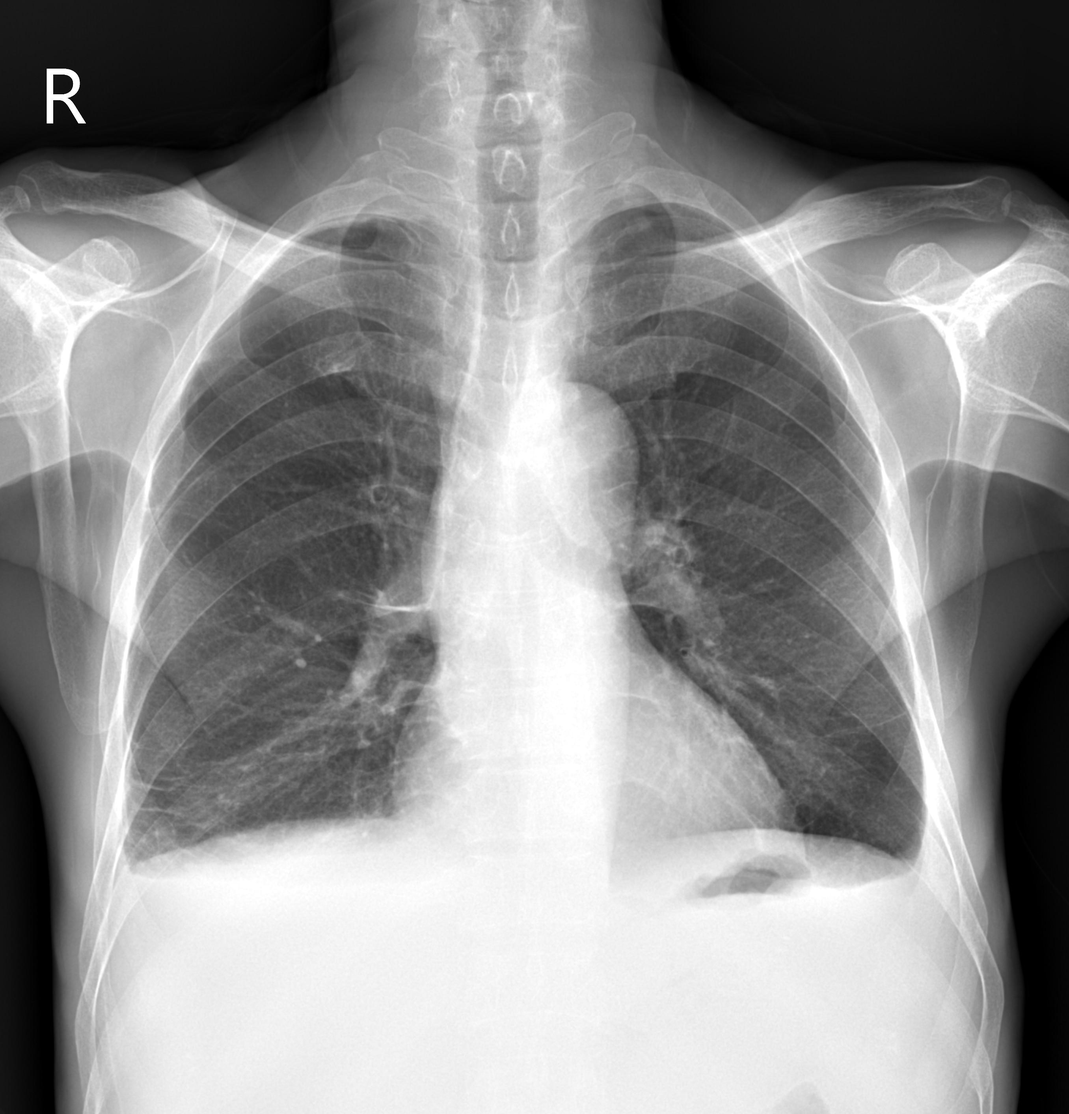Aortic enlargement: (506, 381, 641, 523)
Pleural thickening: (905, 788, 955, 906), (107, 816, 145, 908), (641, 200, 728, 227), (304, 213, 398, 232)
Pulmonary fibrosis: (125, 742, 177, 844), (336, 584, 441, 614)
